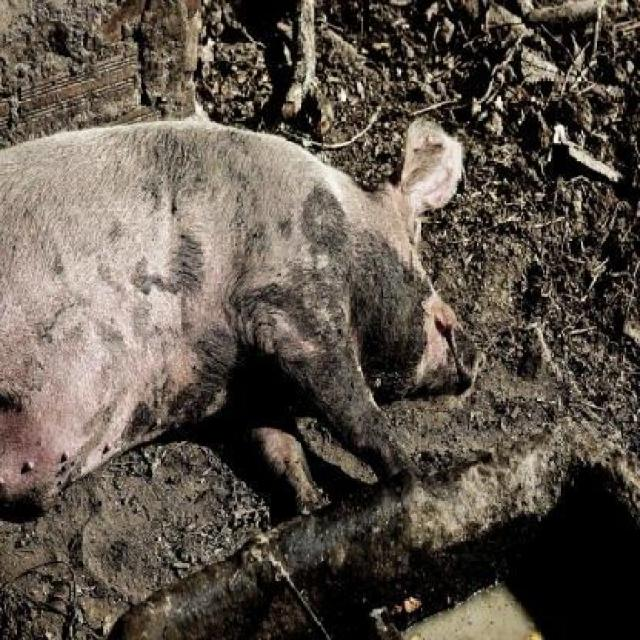Boar: (0, 117, 486, 518)
